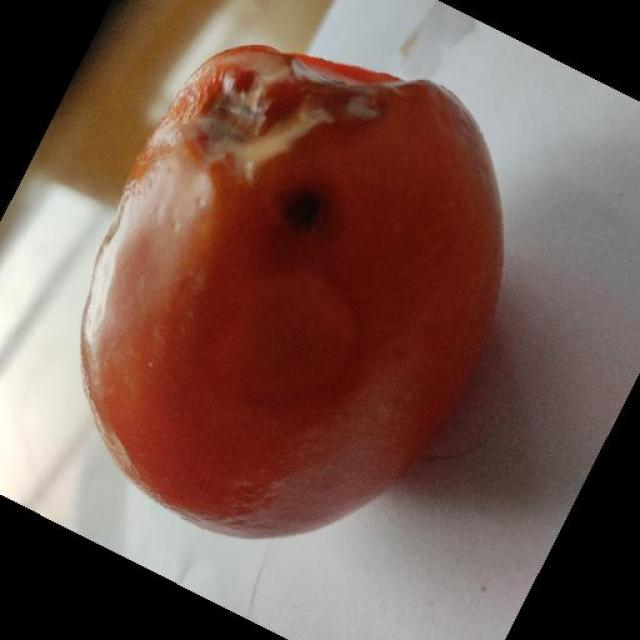Stale_tomato: (112, 40, 479, 505)
